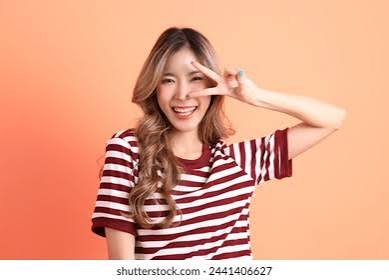peace_sign: (187, 56, 257, 104)
